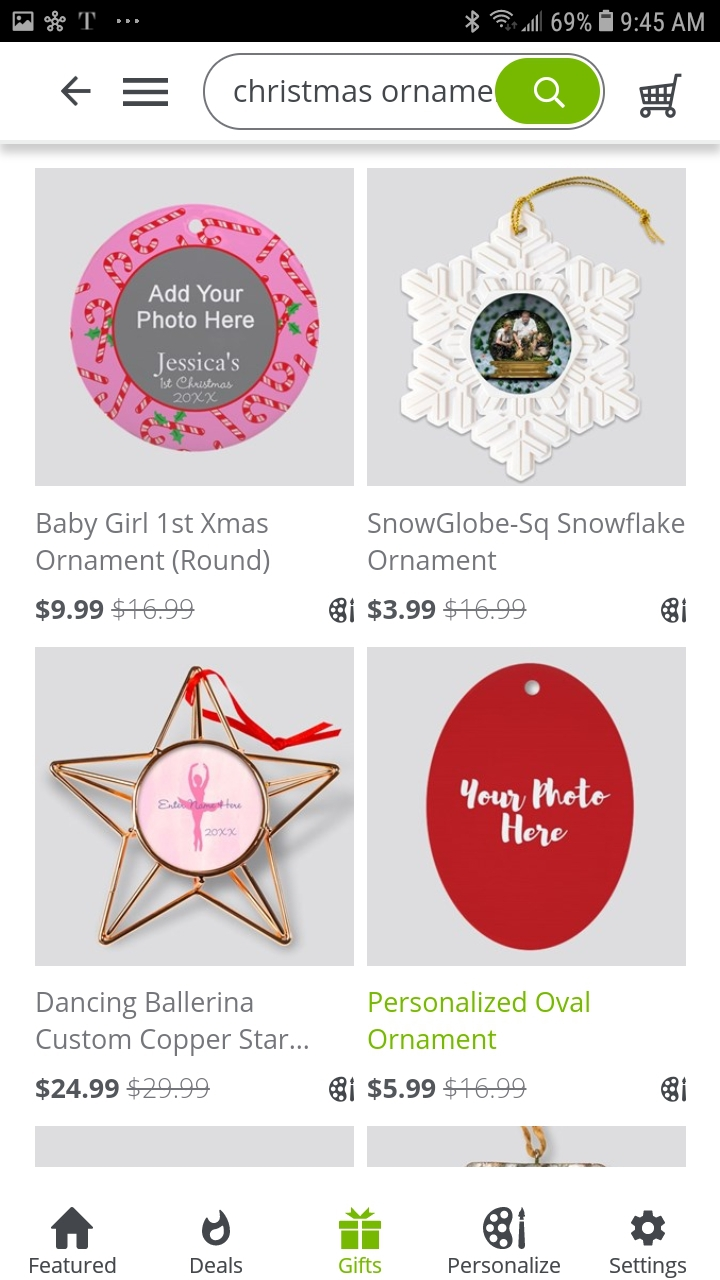EditText: (203, 54, 606, 131)
Icon: (495, 59, 600, 125), (639, 74, 682, 119), (339, 1207, 382, 1250), (52, 1207, 94, 1249), (123, 78, 169, 107), (631, 1209, 666, 1246), (61, 77, 92, 107)
Image: (368, 647, 686, 967), (368, 169, 686, 487), (36, 169, 354, 487), (37, 648, 355, 966), (368, 1126, 686, 1167), (36, 1126, 354, 1167), (483, 1207, 526, 1250), (202, 1209, 231, 1246), (660, 597, 687, 624), (329, 597, 355, 624), (330, 1076, 355, 1102), (661, 1077, 686, 1102)
Text: (368, 512, 685, 574), (37, 991, 310, 1056), (38, 512, 271, 575), (368, 990, 590, 1050), (235, 79, 493, 104), (36, 1077, 211, 1101), (368, 598, 527, 622), (369, 1077, 527, 1100), (36, 600, 195, 622), (449, 1256, 561, 1274), (610, 1256, 687, 1278), (30, 1257, 116, 1273), (191, 1257, 243, 1274), (339, 1256, 382, 1274)
UpperTaskBar: (1, 1, 720, 43)
